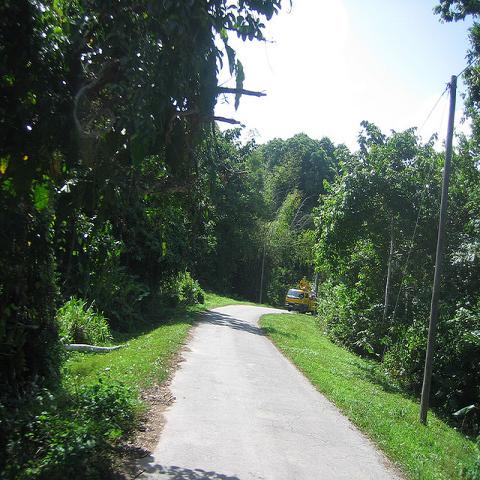truck: (285, 289, 315, 315)
